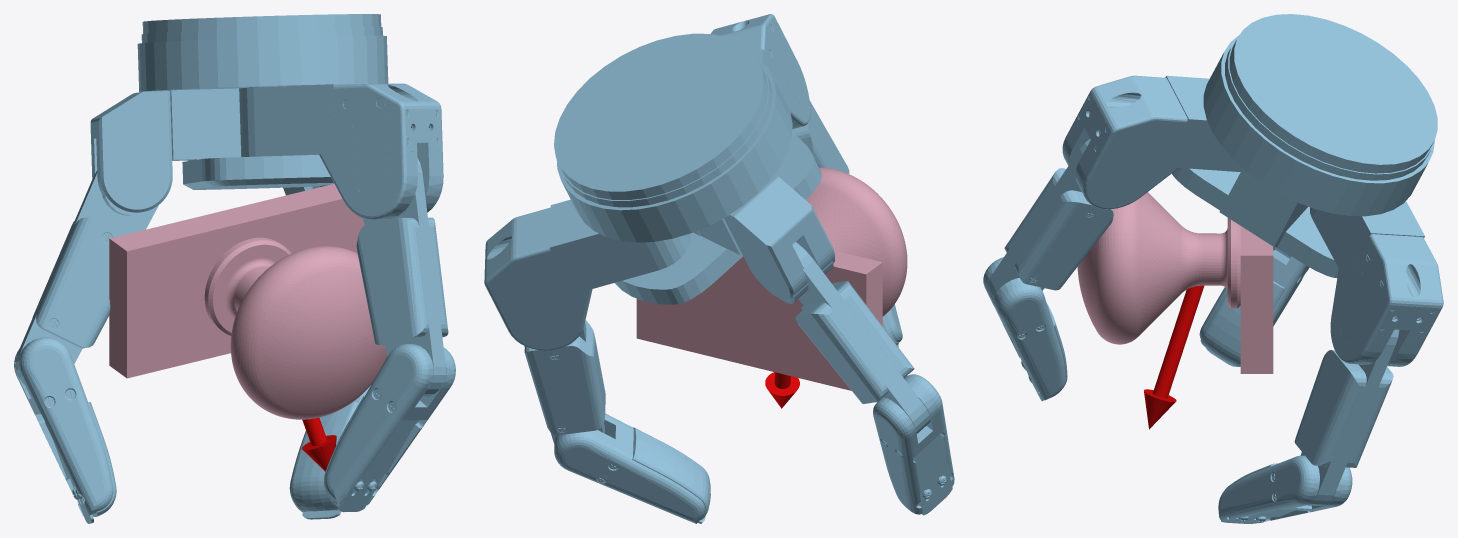
The picture shows the model from 3 angles, left to right: view 1: azimuth 30°, elevation 25°; view 2: azimuth 150°, elevation 25°; view 3: azimuth 270°, elevation 25°; orthographic projection. The views are drawn at different scales.
Parts seen in each view (by area): view 1: world, door_knob.stl; view 2: world, door_knob.stl; view 3: world, door_knob.stl.
Boxes of the visible parts, <box> form: world: <box>14,14,455,523</box>; door_knob.stl: <box>109,184,387,419</box>; world: <box>484,14,954,523</box>; door_knob.stl: <box>636,167,907,390</box>; world: <box>983,14,1443,523</box>; door_knob.stl: <box>1077,192,1273,373</box>.
Bounding box in the file's own units: 0.1739 × 0.2021 × 0.1761.
